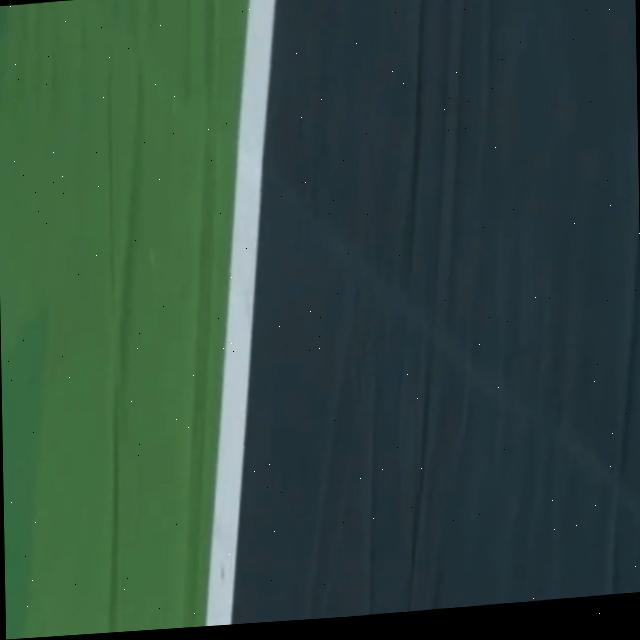right: (206, 0, 276, 626)
